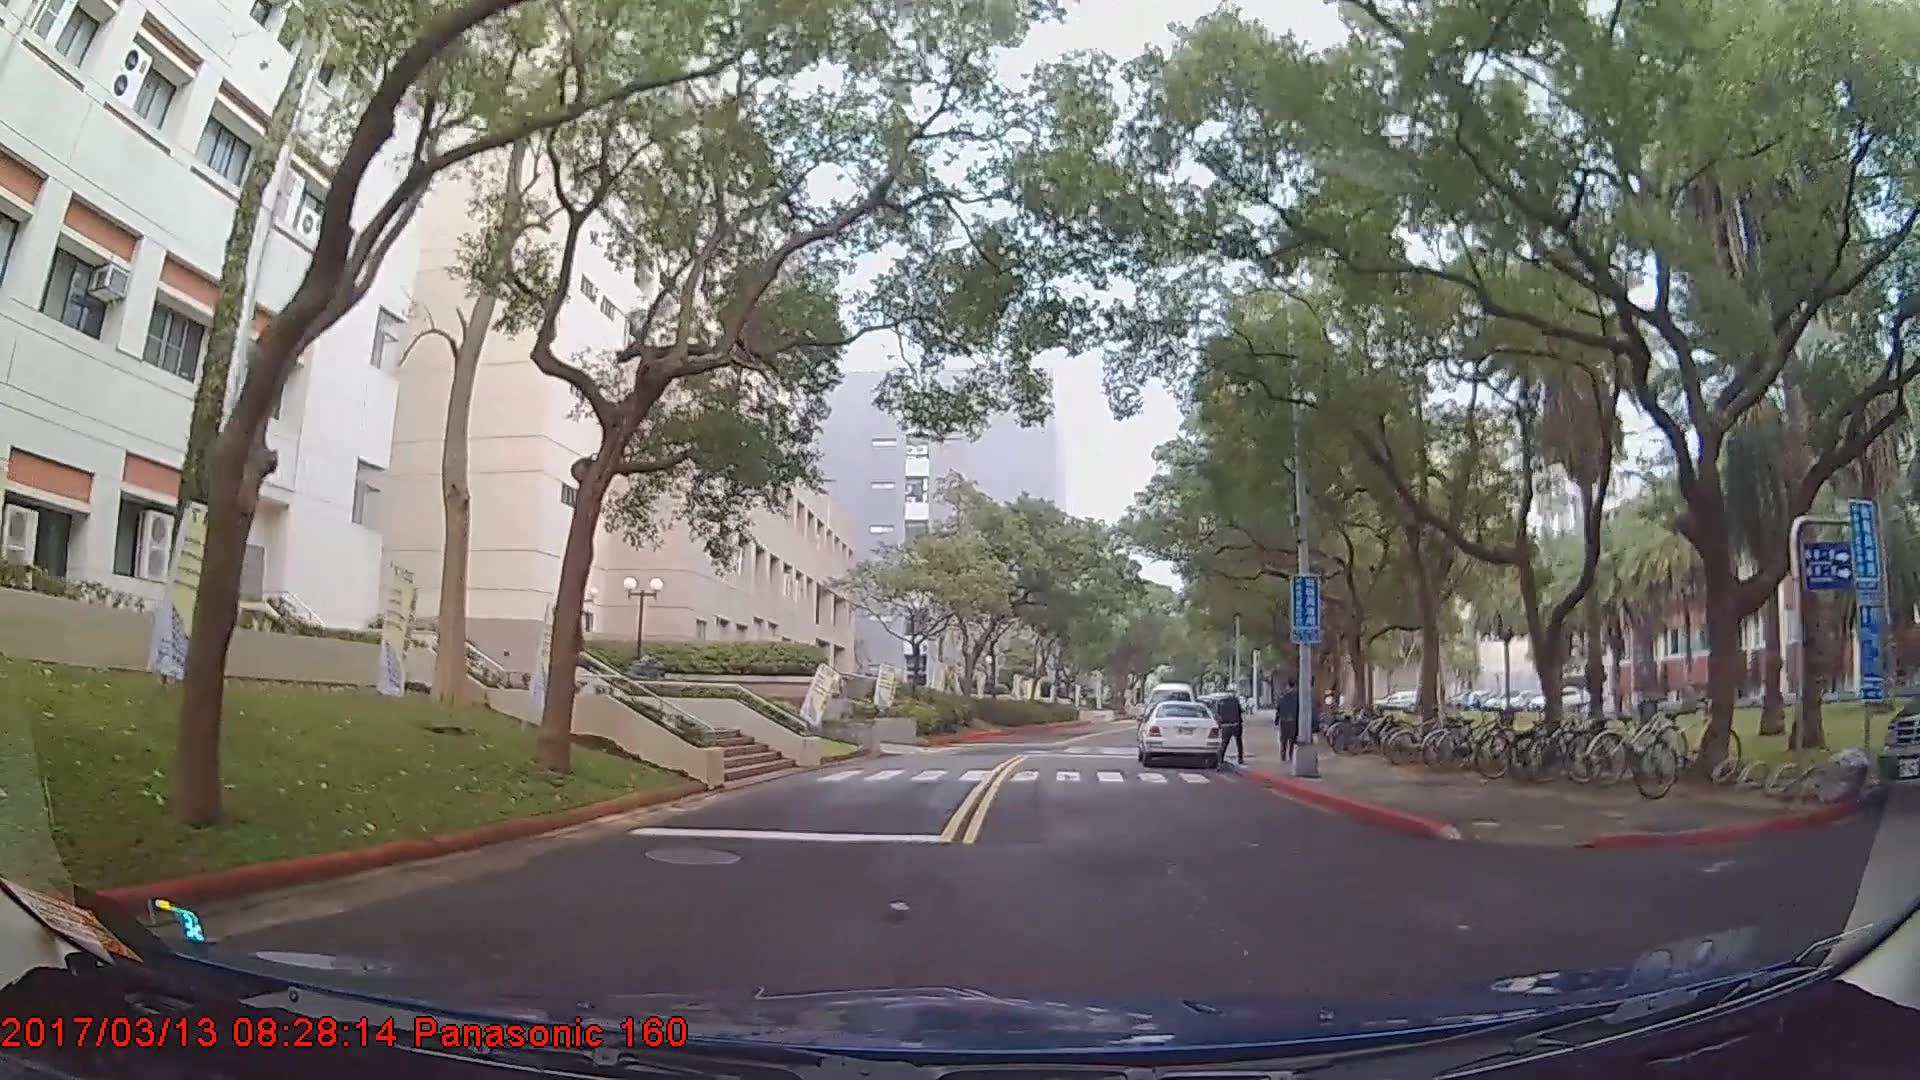pedestrian: (1272, 681, 1309, 767), (1219, 676, 1247, 760)
vehicle: (1135, 699, 1226, 767)
